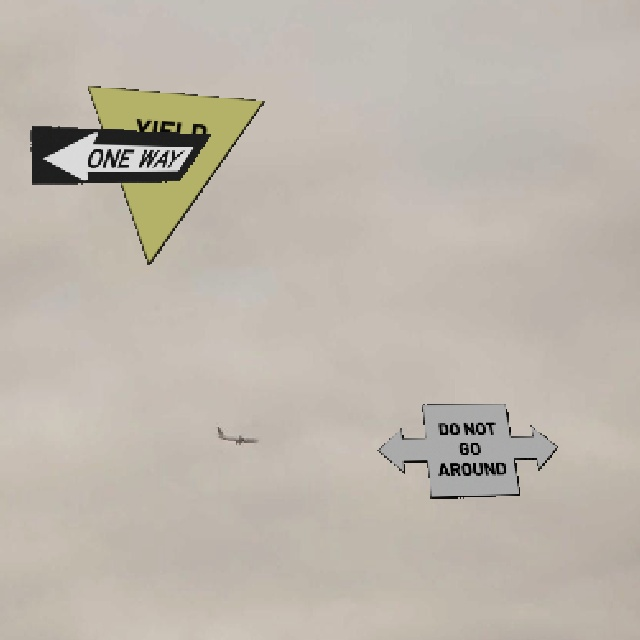DO_NOT_GO_AROUND: (376, 402, 557, 497)
ONE_WAY_ left: (29, 124, 210, 183)
YIELD: (85, 84, 264, 265)
